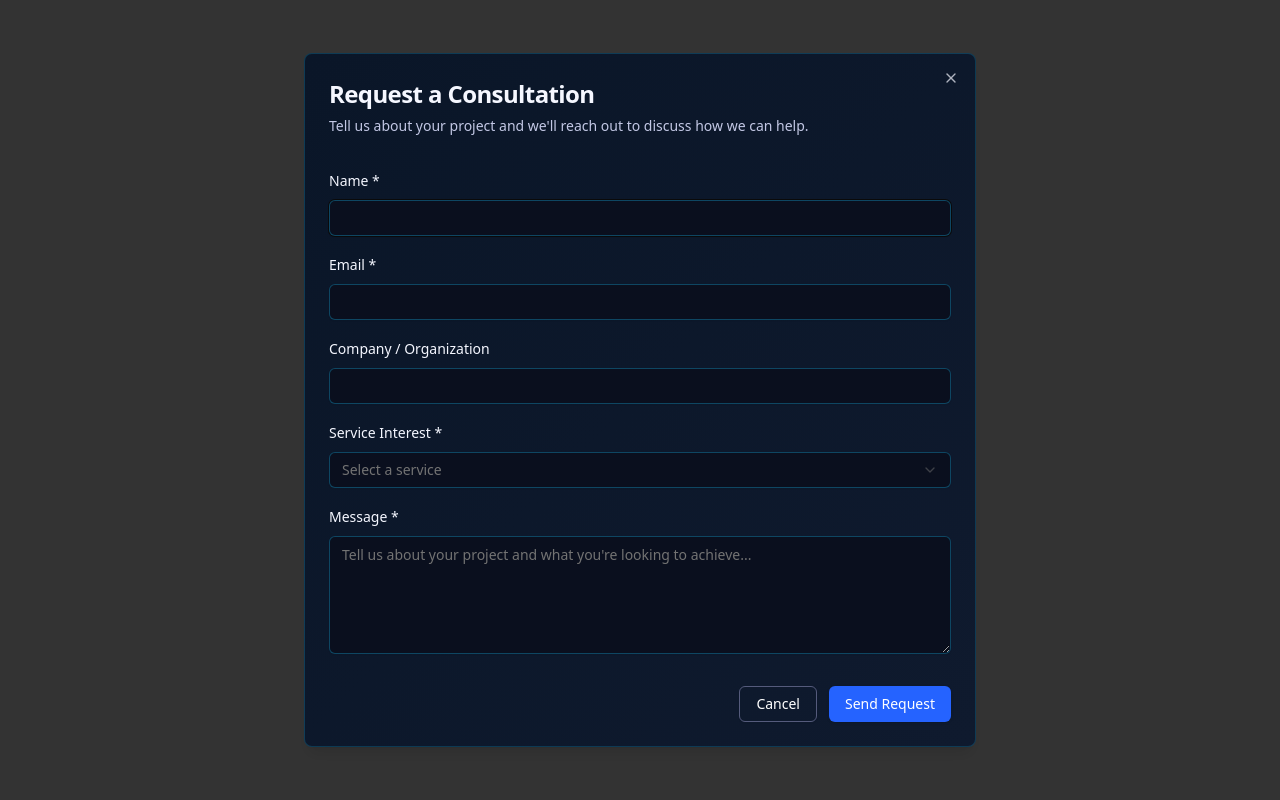
Test case: <ConsultationFormModal> › submits the form and shows the success state
Type "Jane Founder" into the field labelled "Name *" at (640, 218), box [329,200,951,236]
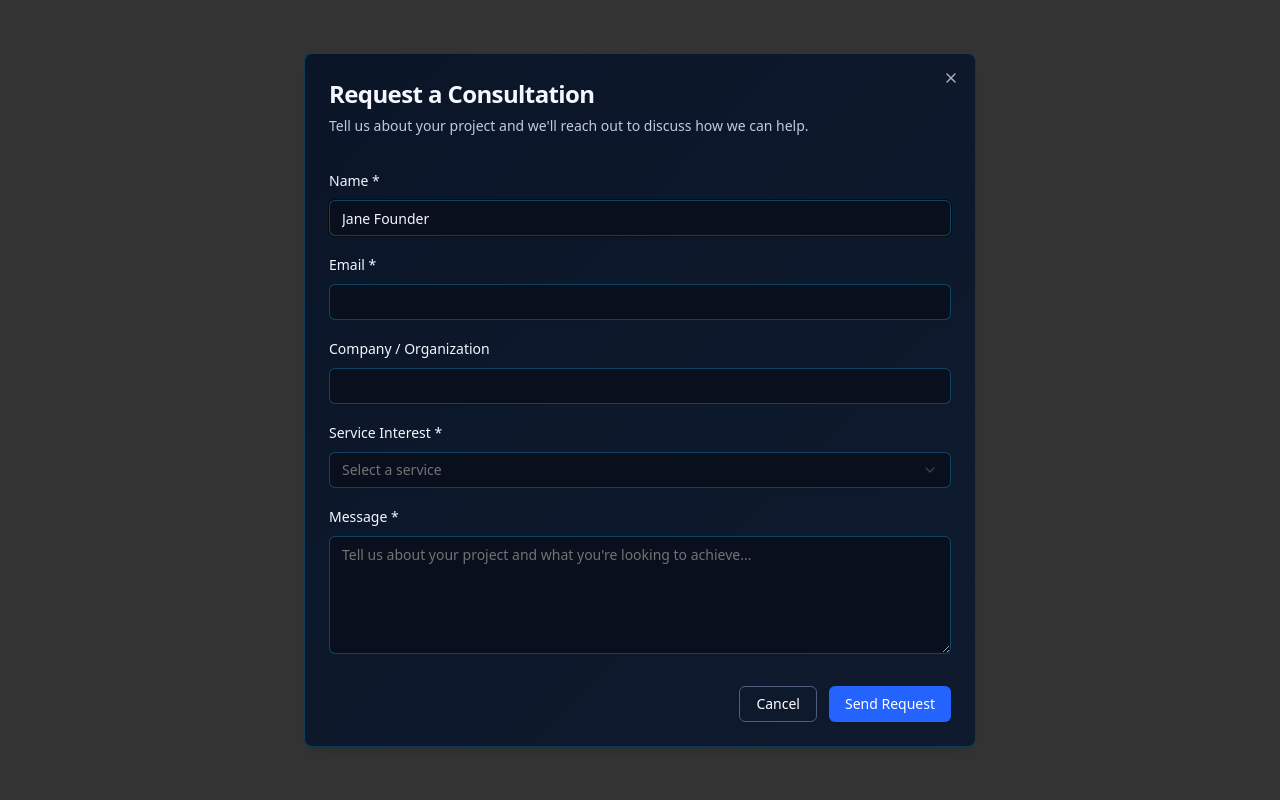
Type "jane@example.com" into the field labelled "Email *" at (640, 302), box [329,284,951,320]
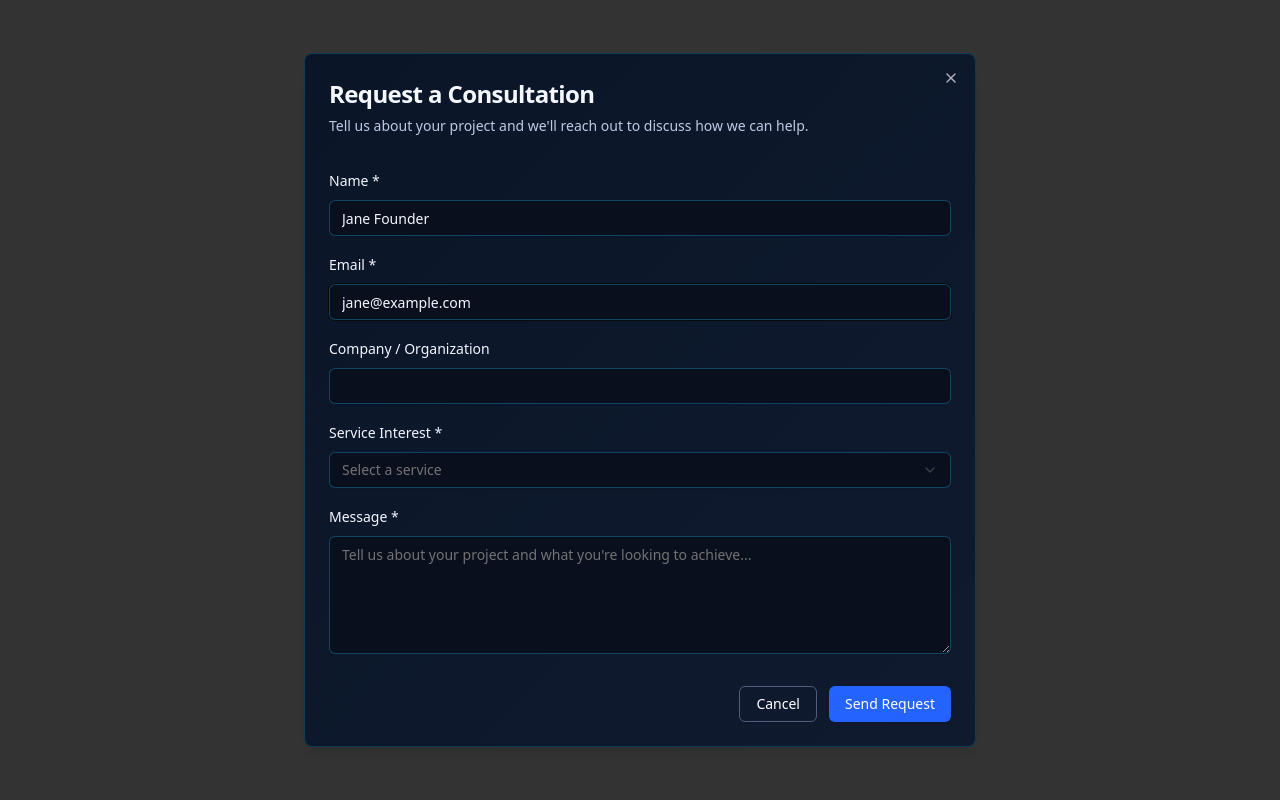
Type "We want to launch a DAO." into the text box labelled "Message *" at (640, 595), box [329,536,951,654]
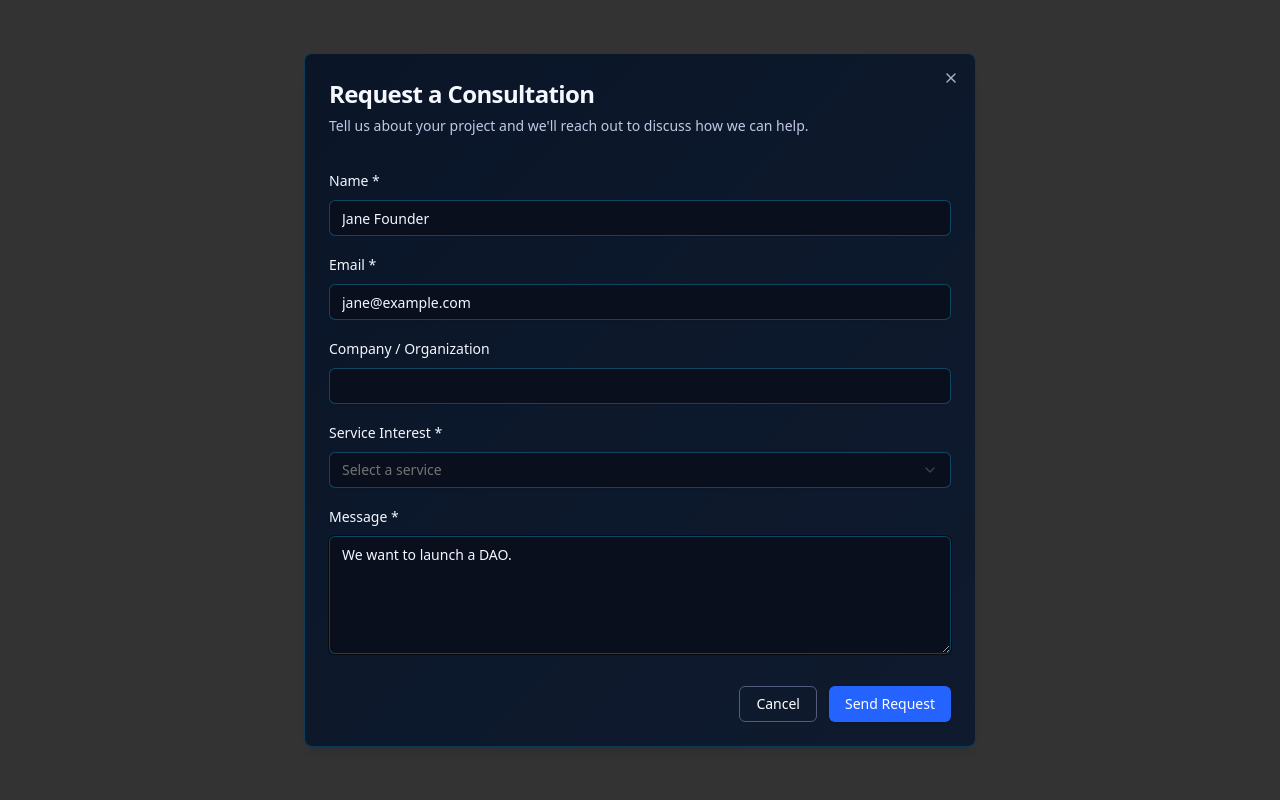
Click the dropdown at (392, 470), box [329,452,951,488]
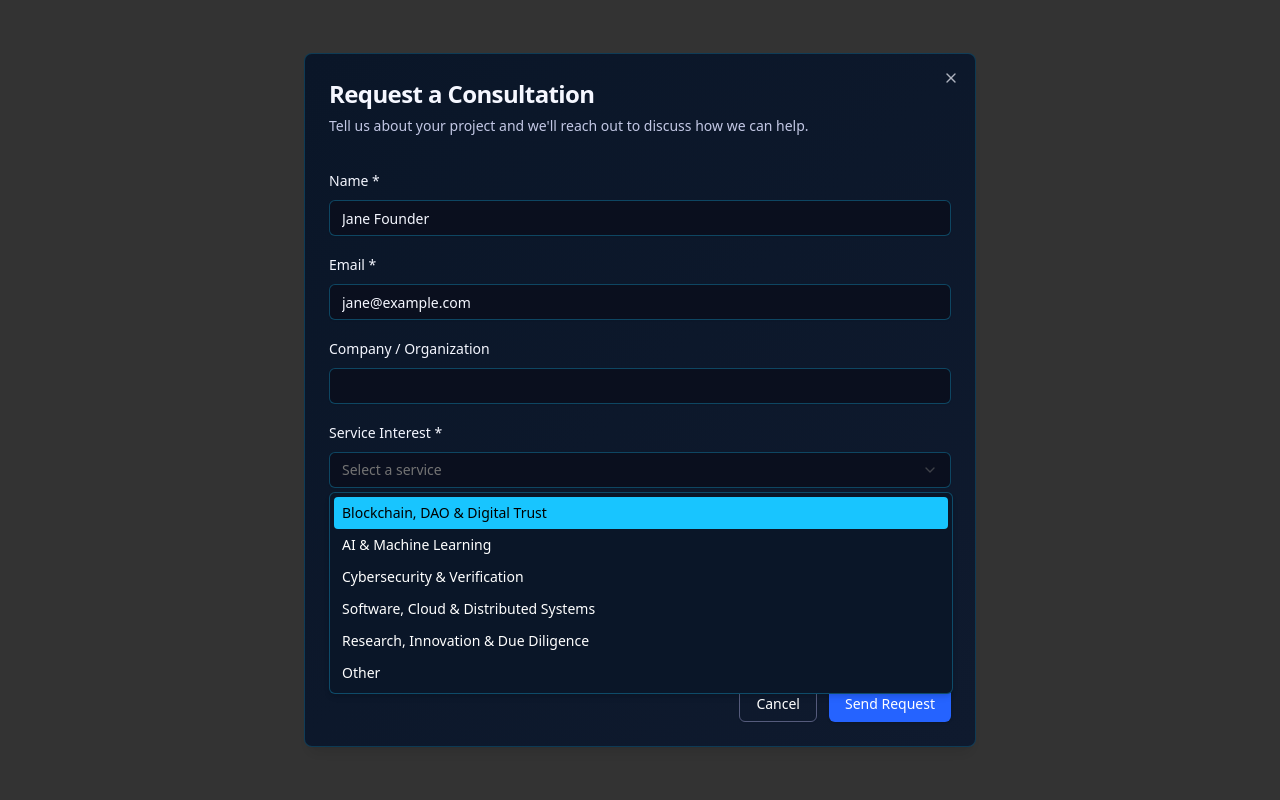
Click the option "Other" at (361, 672), box [342,663,380,682]
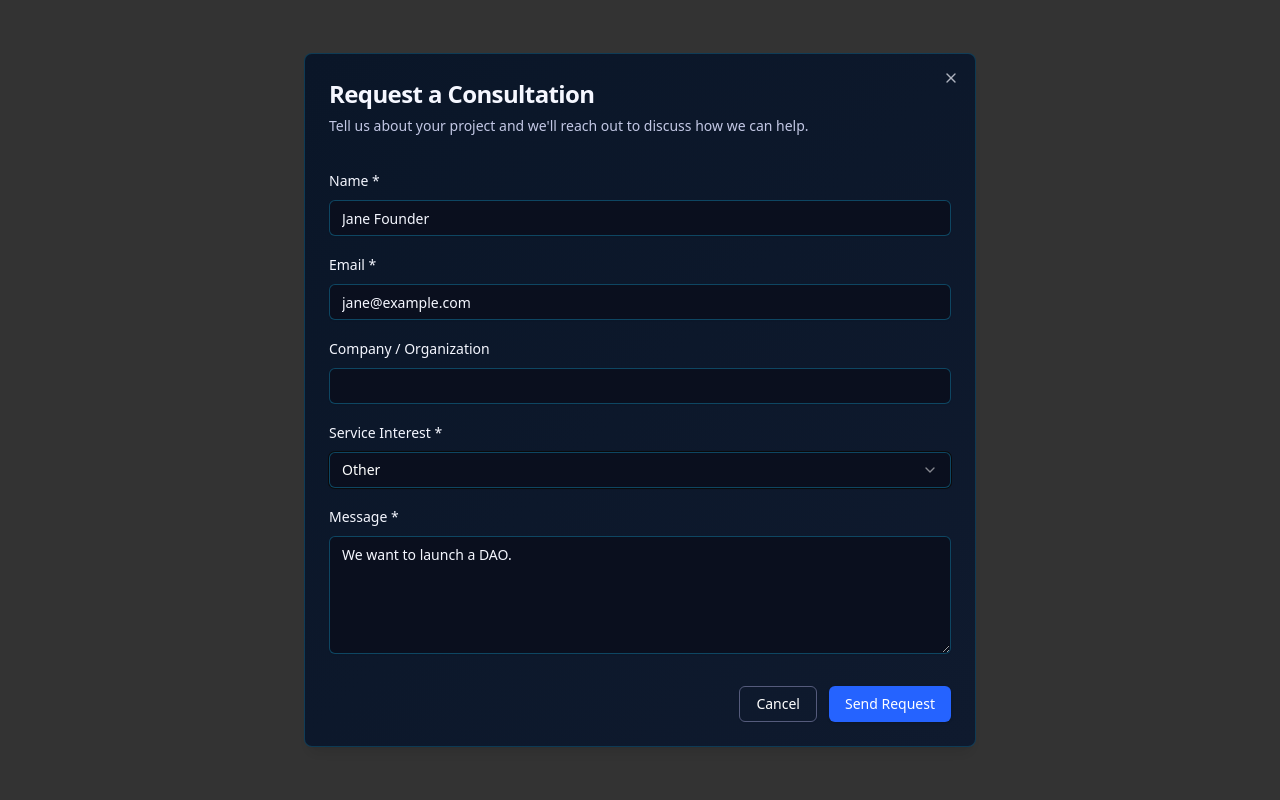
Click the button "Send Request" at (890, 704), box [829,686,951,722]
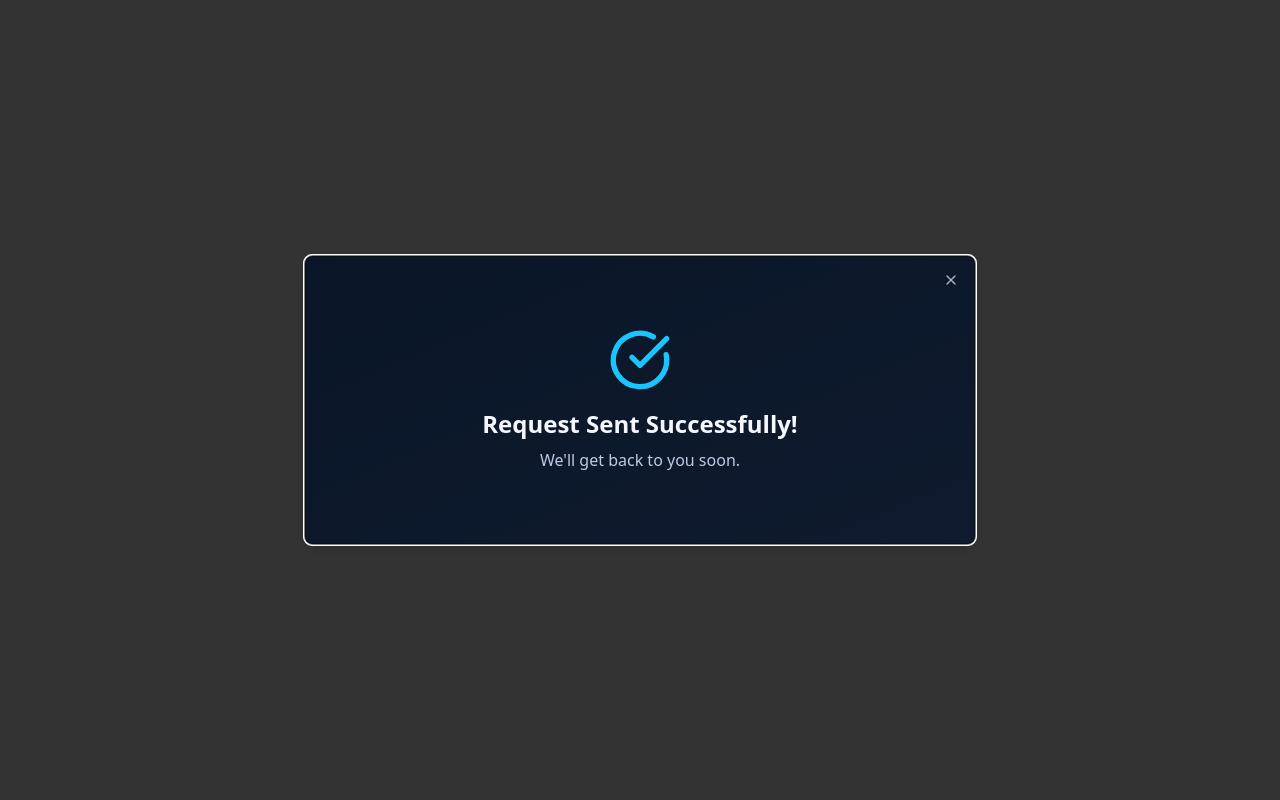
Now the heading "Request Sent Successfully!" is shown, box [482,407,798,440]
